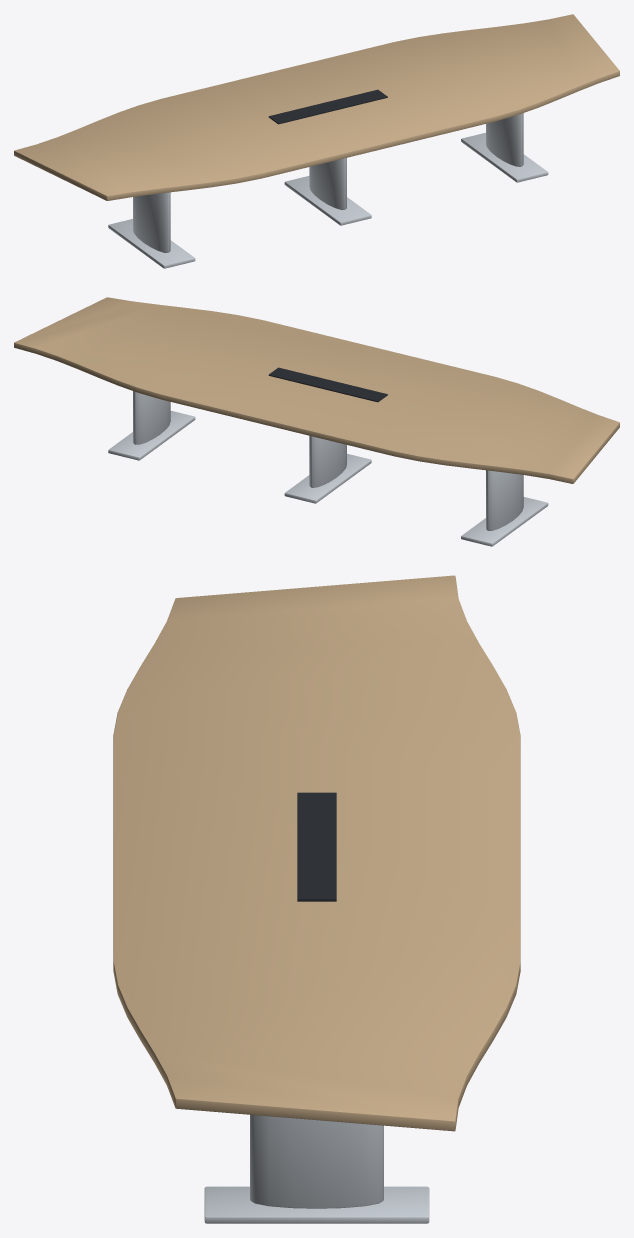
File: meeting-table-l.glb
3 renders of one model, top to bottom at view 1: azimuth 30°, elevation 25°; view 2: azimuth 150°, elevation 25°; view 3: azimuth 270°, elevation 25°, orthographic. The views are drawn at different scales.
Visible parts, largest first — view 1: meeting-table-l; view 2: meeting-table-l; view 3: meeting-table-l.
Part boxes in pixels (x1,y1,x2,y2): meeting-table-l: [14, 14, 619, 268]; meeting-table-l: [14, 297, 619, 546]; meeting-table-l: [113, 575, 520, 1223].
Size of the model in its own units: 4.6 by 0.748 by 1.45.
